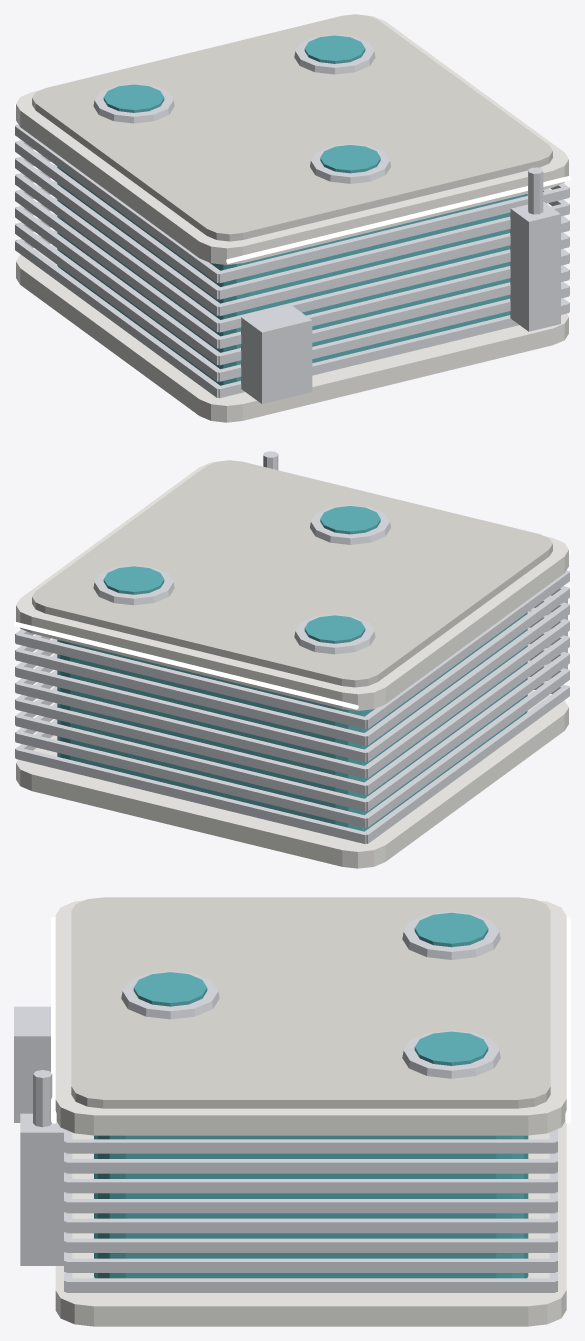
File: arcology-towers-and-skyways-mechanical-floor-387bc63c__23238.glb
The picture shows the model from 3 angles, top to bottom: view 1: azimuth 30°, elevation 25°; view 2: azimuth 150°, elevation 25°; view 3: azimuth 270°, elevation 25°; orthographic projection. The views are drawn at different scales.
Parts seen in each view (by area): view 1: mechanical-floor; view 2: mechanical-floor; view 3: mechanical-floor.
Boxes of the visible parts, x1,y1,x2,y2 form: mechanical-floor: (14, 14, 570, 422); mechanical-floor: (14, 451, 570, 868); mechanical-floor: (14, 897, 570, 1326).
Size of the model in its own units: 16 by 7.98 by 17.44.
